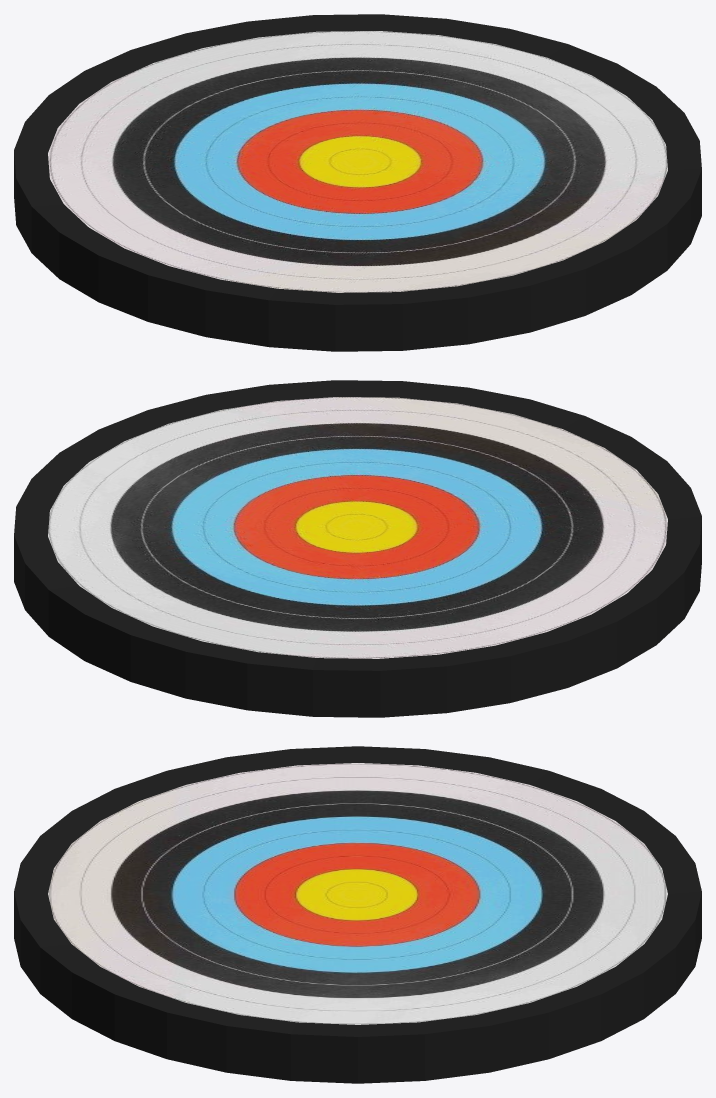
File: Diana.fbx
3 renders of one model, top to bottom at view 1: azimuth 30°, elevation 25°; view 2: azimuth 150°, elevation 25°; view 3: azimuth 270°, elevation 25°, orthographic.
Visible parts, largest first — view 1: Diana; view 2: Diana; view 3: Diana.
Boxes of the visible parts, x1,y1,x2,y2 form: Diana: (14,14,701,351); Diana: (14,380,701,717); Diana: (14,746,701,1083).
Bounding box in the file's own units: 222 × 16.64 × 222.
